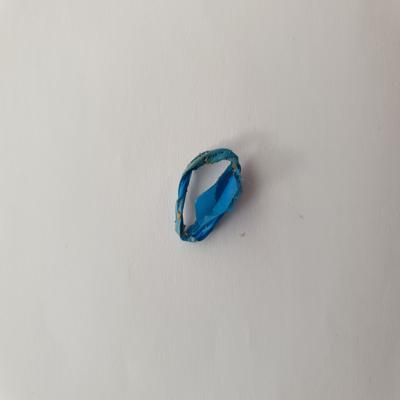thread: (170, 146, 246, 247)
